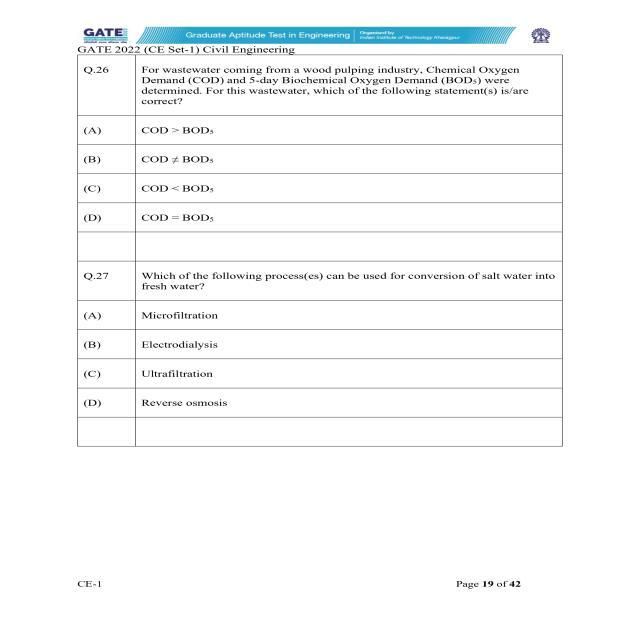Answer_Block: (78, 116, 561, 233), (77, 303, 565, 417)
Question_Answer_Block: (77, 57, 560, 233), (74, 262, 562, 416)
Question_Block: (77, 56, 560, 115), (71, 264, 563, 300)
Question_Paper_Area: (75, 43, 563, 446)
